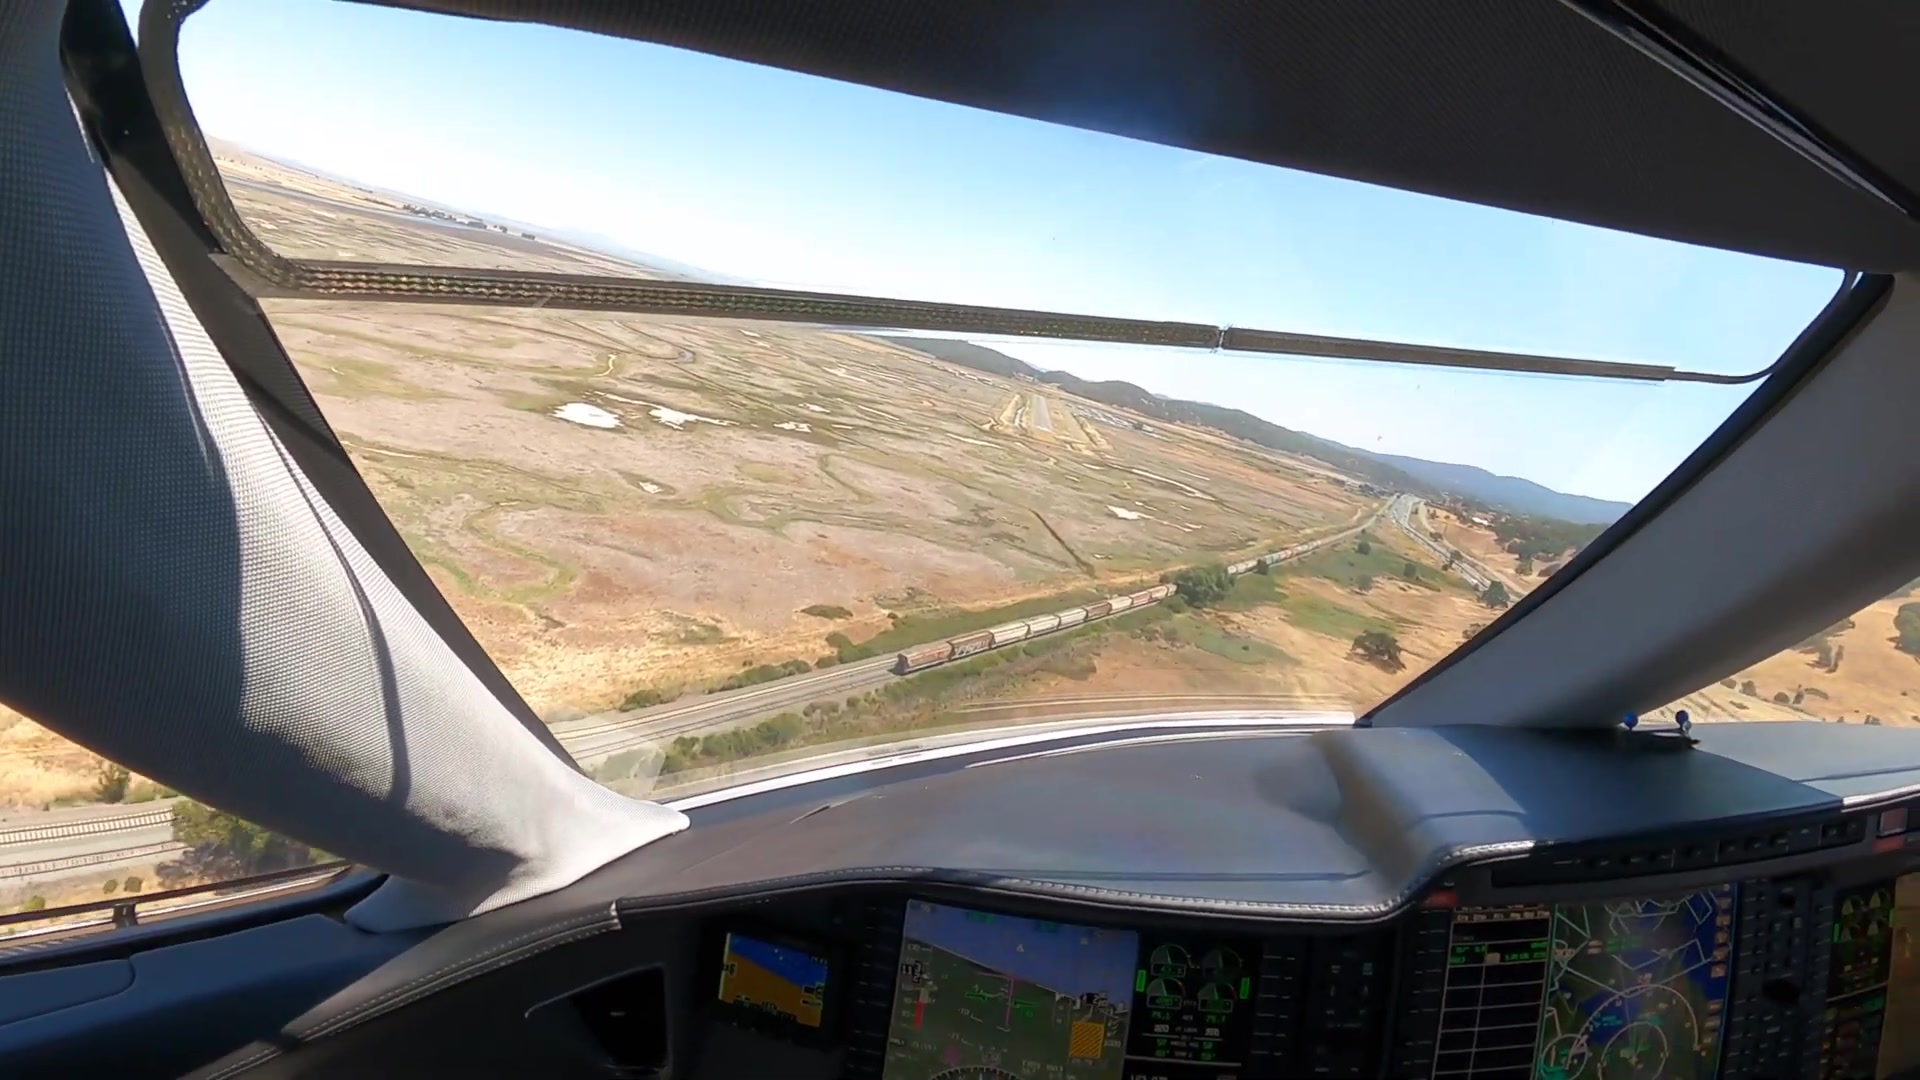runway: (1029, 396, 1052, 436)
